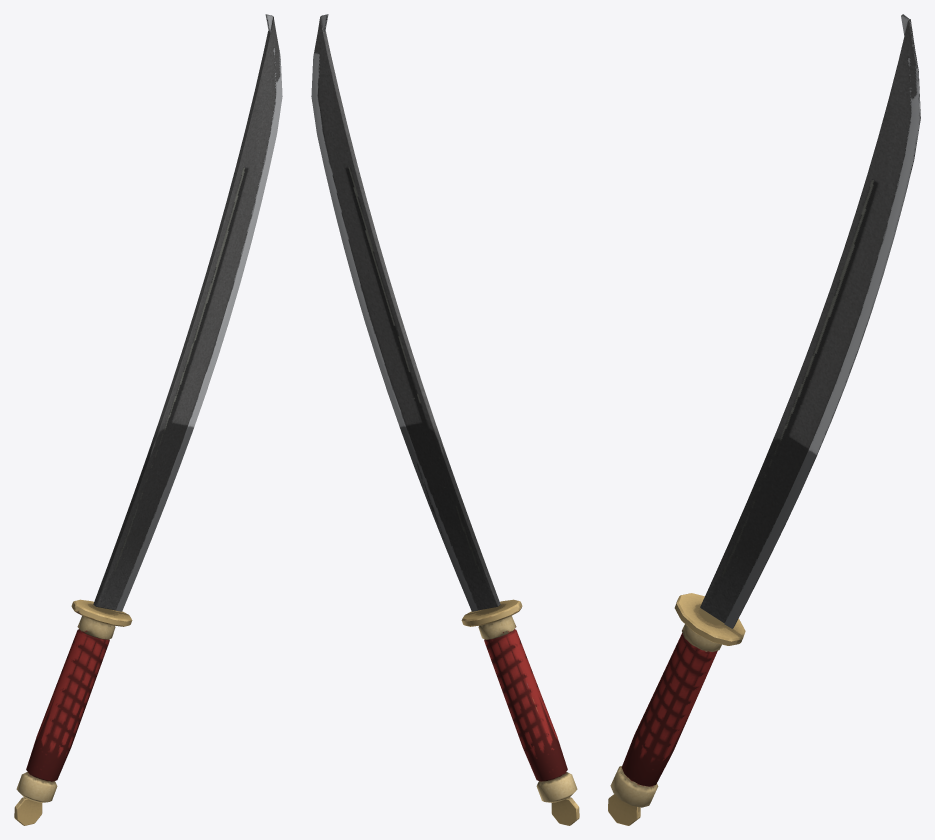
File: dao.gltf
3 views of the same model, side by side, from view 1: azimuth 30°, elevation 25°; view 2: azimuth 150°, elevation 25°; view 3: azimuth 330°, elevation 25° (orthographic). The views are drawn at different scales.
Parts seen in each view (by area): view 1: dao; view 2: dao; view 3: dao.
Part boxes in pixels (left/top/right/bottom): dao: left=14, top=14, right=282, bottom=825; dao: left=311, top=14, right=579, bottom=825; dao: left=608, top=14, right=920, bottom=825.
Bounding box in the file's own units: 0.307 × 0.8275 × 0.049.
1 material, 1 textured.
